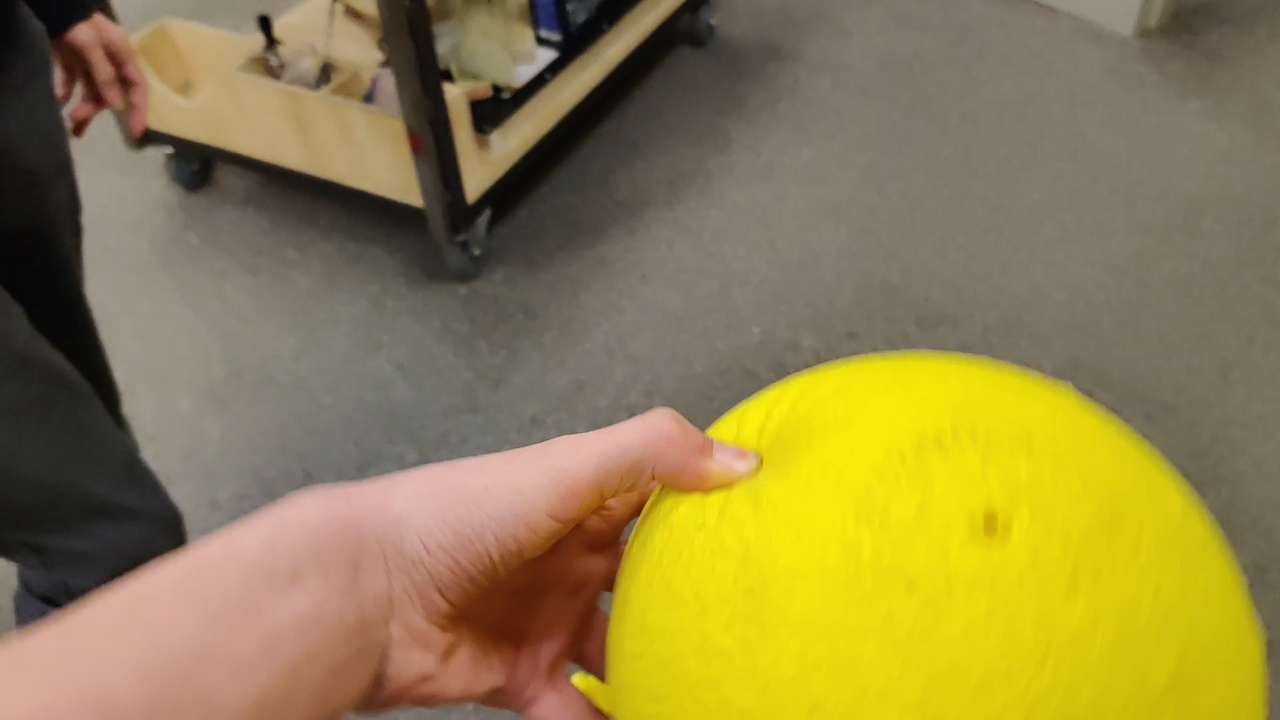Ball: (605, 351, 1267, 720)
